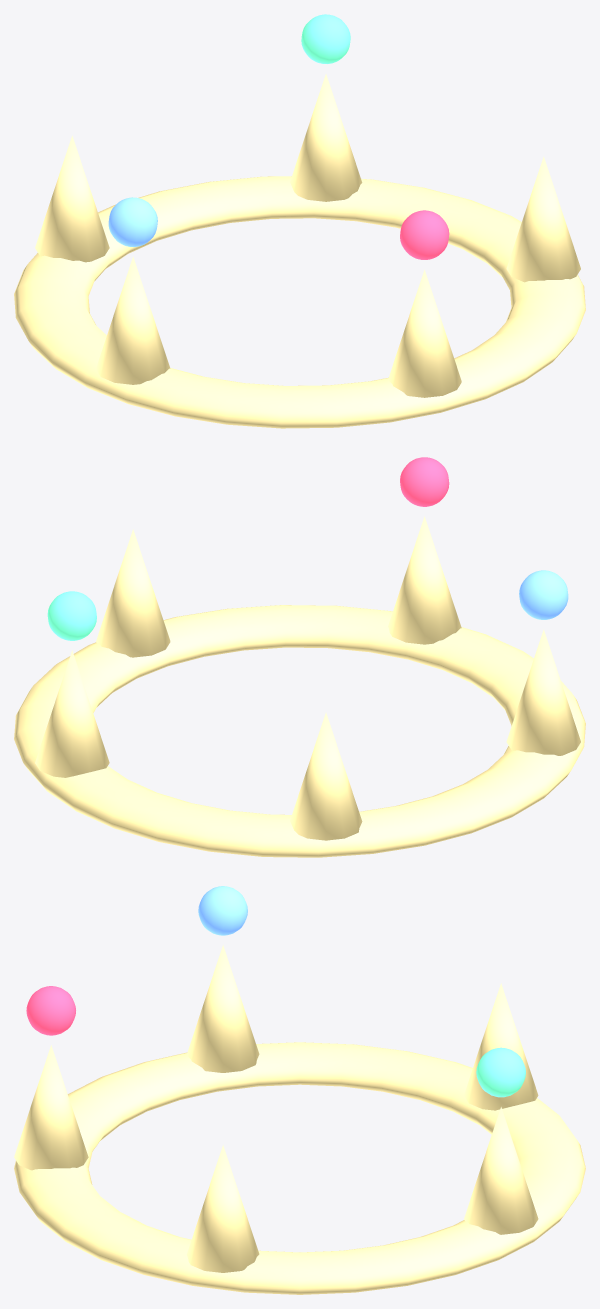
The model's file is crown_royal.glb.
3 views of the same model, one above another, from view 1: azimuth 30°, elevation 25°; view 2: azimuth 150°, elevation 25°; view 3: azimuth 270°, elevation 25° (orthographic).
Parts seen in each view (by area): view 1: crown_band, crown_spike_0, crown_spike_2, crown_spike_4, crown_spike_3, crown_spike_1, crown_gem_4, crown_gem_2, crown_gem_0; view 2: crown_band, crown_spike_3, crown_spike_0, crown_spike_1, crown_spike_2, crown_spike_4, crown_gem_4, crown_gem_2, crown_gem_0; view 3: crown_band, crown_spike_1, crown_spike_4, crown_spike_2, crown_spike_0, crown_spike_3, crown_gem_4, crown_gem_2, crown_gem_0.
Part boxes in pixels (x1,y1,x2,y2): crown_band: (14, 176, 585, 428); crown_spike_0: (388, 269, 461, 397); crown_spike_2: (290, 74, 362, 201); crown_spike_4: (96, 256, 170, 384); crown_spike_3: (35, 135, 109, 262); crown_spike_1: (506, 156, 580, 282); crown_gem_4: (108, 197, 157, 247); crown_gem_2: (301, 14, 350, 63); crown_gem_0: (400, 210, 449, 259); crown_band: (14, 605, 585, 857); crown_spike_3: (290, 712, 362, 840); crown_spike_0: (388, 516, 461, 644); crown_spike_1: (96, 529, 170, 657); crown_spike_2: (35, 650, 109, 777); crown_spike_4: (506, 629, 580, 755); crown_gem_4: (519, 570, 568, 619); crown_gem_2: (47, 591, 96, 640); crown_gem_0: (400, 457, 449, 506); crown_band: (14, 1042, 585, 1294); crown_spike_1: (186, 1145, 259, 1272); crown_spike_4: (186, 945, 259, 1072); crown_spike_2: (464, 1107, 538, 1234); crown_spike_0: (14, 1045, 88, 1170); crown_spike_3: (464, 983, 538, 1110); crown_gem_4: (198, 886, 247, 935); crown_gem_2: (476, 1047, 525, 1097); crown_gem_0: (26, 986, 75, 1035).
Size of the model in its own units: 0.92 by 0.347 by 0.92.
